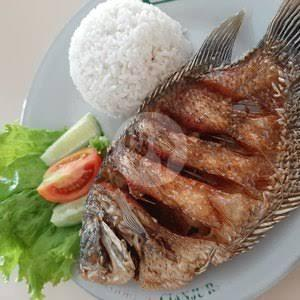buah_sayur_lainnya: (1, 149, 37, 254), (59, 133, 90, 150)
buah_sayur_vitA: (47, 165, 86, 196)
daging: (157, 95, 251, 238)
makanan_berpati: (91, 16, 152, 83)
